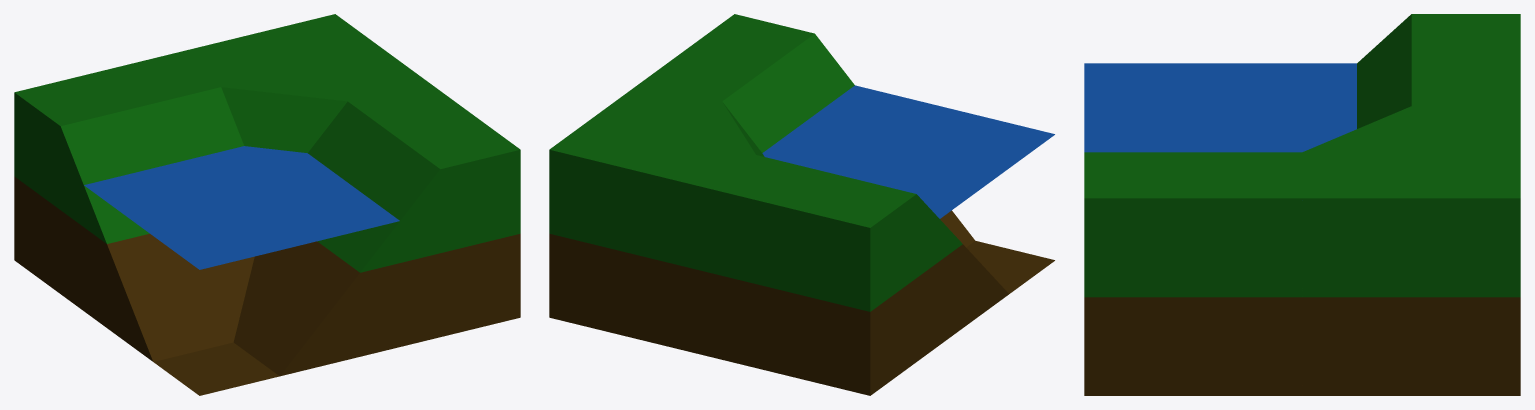
Rendered from lake-curve.obj.
3 views of the same model, side by side, from view 1: azimuth 30°, elevation 25°; view 2: azimuth 150°, elevation 25°; view 3: azimuth 270°, elevation 25° (orthographic). The views are drawn at different scales.
Visible parts, largest first — view 1: grass, dirt, water; view 2: grass, dirt, water; view 3: grass, dirt, water.
Part boxes in pixels (bbox=[...]): grass: bbox=[14, 14, 520, 272]; dirt: bbox=[14, 176, 520, 395]; water: bbox=[84, 146, 399, 269]; grass: bbox=[549, 14, 962, 311]; dirt: bbox=[549, 210, 1054, 395]; water: bbox=[762, 85, 1054, 218]; grass: bbox=[1084, 14, 1520, 297]; dirt: bbox=[1084, 297, 1520, 395]; water: bbox=[1084, 63, 1356, 152].
Bounding box in the file's own units: 0.25 × 0.125 × 0.25.
1 material, 1 textured.
